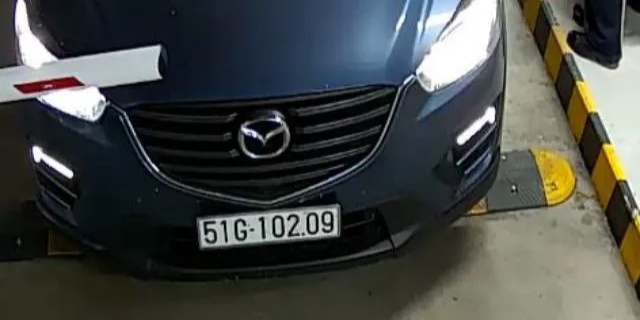bien_so: (199, 209, 338, 248)
